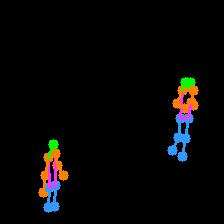normal: (162, 72, 200, 167), (33, 131, 70, 219)
